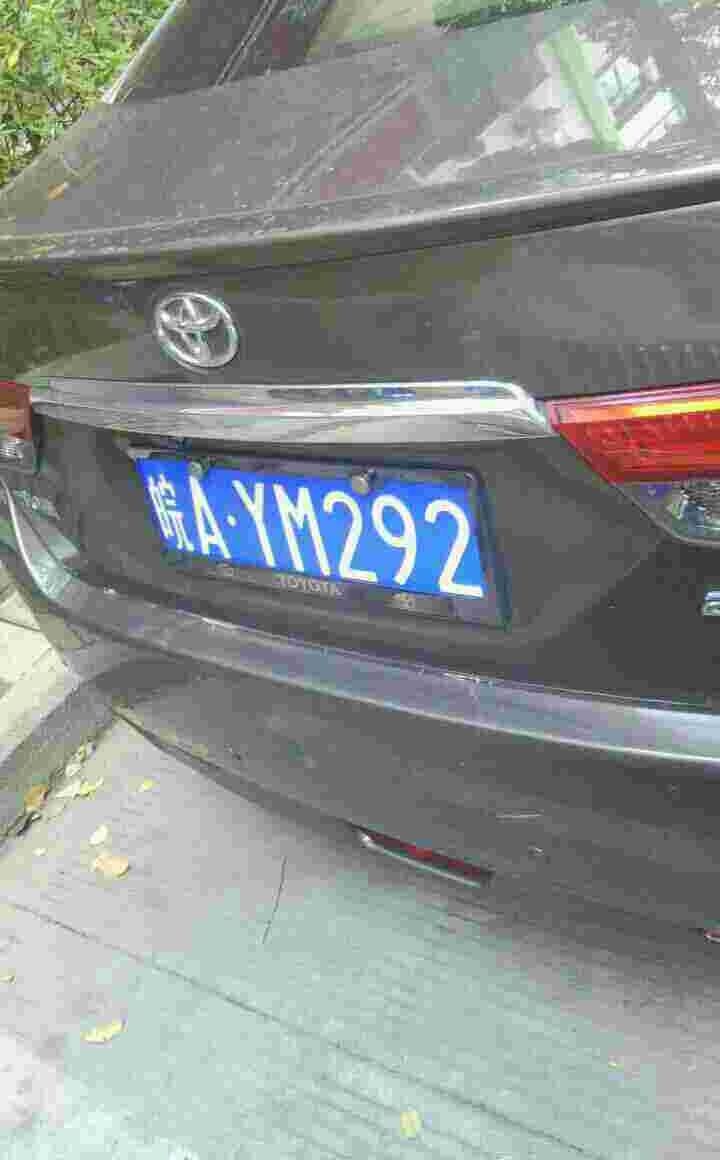license_plate: (140, 460, 488, 599)
